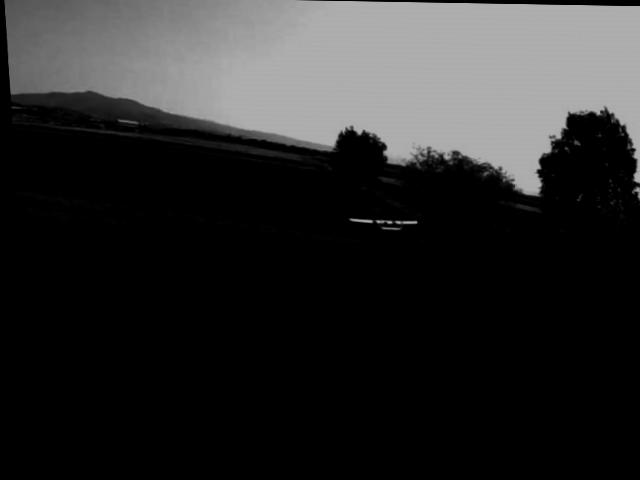hedef: (340, 206, 429, 240)
